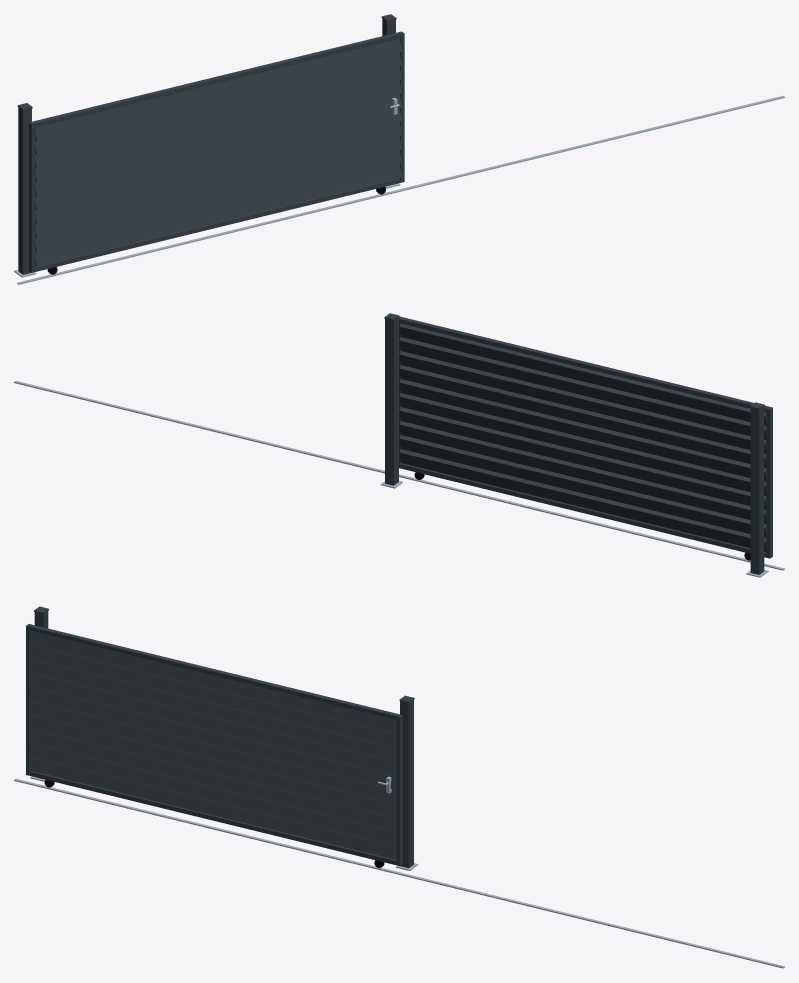
The model's file is 09-klizna.glb.
3 views of the same model, one above another, from view 1: azimuth 30°, elevation 25°; view 2: azimuth 150°, elevation 25°; view 3: azimuth 330°, elevation 25° (orthographic).
Parts seen in each view (by area): view 1: Ispuna_horizontalna.175, Ispuna_horizontalna.182, Ispuna_horizontalna.177, Ispuna_horizontalna.183, Ispuna_horizontalna.178, Ispuna_horizontalna.181, Ispuna_horizontalna.176, Ispuna_horizontalna.179, Ispuna_horizontalna.180, Ispuna_horizontalna.184, Ram_gornji.029, Okov_vodilica_demo.008 (+4 smaller); view 2: Ispuna_horizontalna.179, Ispuna_horizontalna.175, Ispuna_horizontalna.176, Ispuna_horizontalna.177, Ispuna_horizontalna.178, Ispuna_horizontalna.180, Ispuna_horizontalna.181, Ispuna_horizontalna.182, Ispuna_horizontalna.183, Ispuna_horizontalna.184, Ram_gornji.029, Okov_vodilica_demo.008 (+4 smaller); view 3: Ispuna_horizontalna.177, Ispuna_horizontalna.181, Ispuna_horizontalna.175, Ispuna_horizontalna.176, Ispuna_horizontalna.178, Ispuna_horizontalna.182, Ispuna_horizontalna.183, Ispuna_horizontalna.179, Ispuna_horizontalna.180, Ispuna_horizontalna.184, Ram_gornji.029, Okov_vodilica_demo.008 (+4 smaller).
Boxes of the visible parts, x1,y1,x2,y2 form: Ispuna_horizontalna.175: (35, 164, 401, 266); Ispuna_horizontalna.182: (35, 66, 401, 168); Ispuna_horizontalna.177: (35, 136, 401, 238); Ispuna_horizontalna.183: (35, 52, 401, 154); Ispuna_horizontalna.178: (35, 122, 401, 224); Ispuna_horizontalna.181: (35, 80, 401, 182); Ispuna_horizontalna.176: (35, 150, 401, 252); Ispuna_horizontalna.179: (35, 108, 401, 210); Ispuna_horizontalna.180: (35, 94, 401, 196); Ispuna_horizontalna.184: (35, 38, 401, 140); Ram_gornji.029: (33, 32, 400, 127); Okov_vodilica_demo.008: (17, 96, 784, 284); Ispuna_horizontalna.179: (399, 393, 766, 495); Ispuna_horizontalna.175: (399, 449, 766, 551); Ispuna_horizontalna.176: (399, 435, 766, 537); Ispuna_horizontalna.177: (399, 421, 766, 523); Ispuna_horizontalna.178: (399, 407, 766, 509); Ispuna_horizontalna.180: (399, 379, 766, 481); Ispuna_horizontalna.181: (399, 365, 766, 467); Ispuna_horizontalna.182: (399, 351, 766, 453); Ispuna_horizontalna.183: (399, 337, 766, 439); Ispuna_horizontalna.184: (399, 323, 766, 425); Ram_gornji.029: (400, 317, 768, 412); Okov_vodilica_demo.008: (14, 381, 784, 570); Ispuna_horizontalna.177: (29, 729, 396, 831); Ispuna_horizontalna.181: (29, 673, 396, 775); Ispuna_horizontalna.175: (29, 757, 396, 859); Ispuna_horizontalna.176: (29, 743, 396, 845); Ispuna_horizontalna.178: (29, 715, 396, 817); Ispuna_horizontalna.182: (29, 659, 396, 761); Ispuna_horizontalna.183: (29, 645, 396, 747); Ispuna_horizontalna.179: (29, 701, 396, 803); Ispuna_horizontalna.180: (29, 687, 396, 789); Ispuna_horizontalna.184: (29, 631, 396, 733); Ram_gornji.029: (30, 625, 398, 719); Okov_vodilica_demo.008: (14, 778, 784, 968).
Size of the model in its own units: 8.63 by 1.8 by 0.38.
